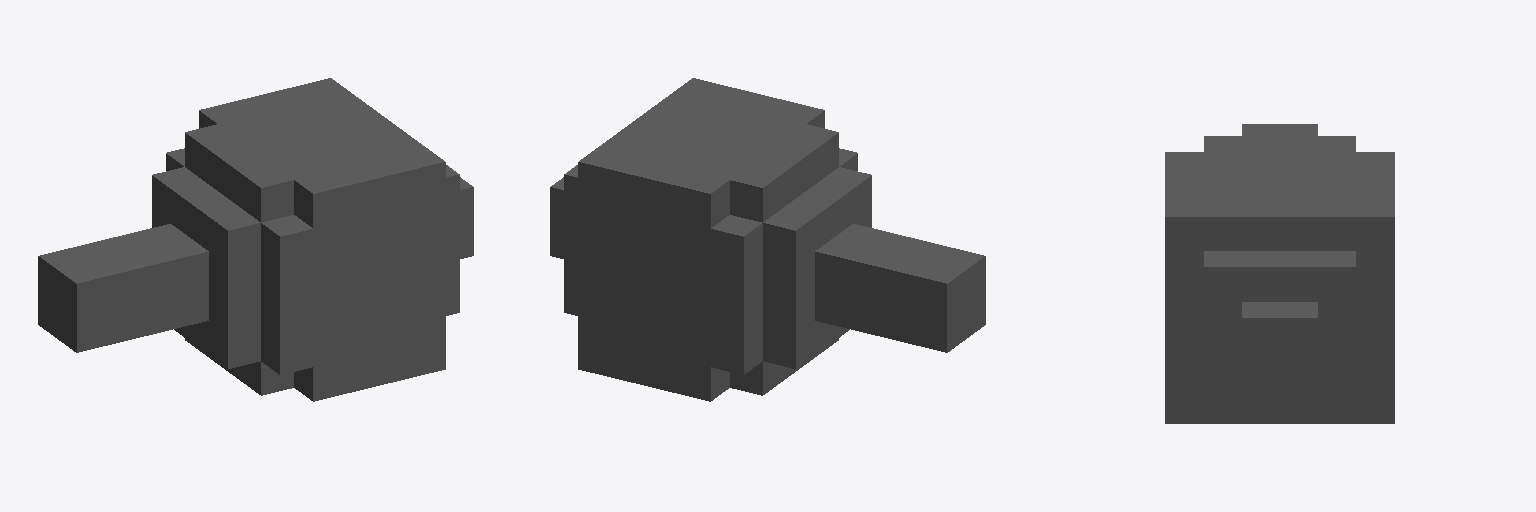
3 renders of one model, left to right at view 1: azimuth 30°, elevation 25°; view 2: azimuth 150°, elevation 25°; view 3: azimuth 270°, elevation 25°, orthographic.
Parts seen in each view (by area): view 1: Spell; view 2: Spell; view 3: Spell.
Boxes of the visible parts, <box> form: Spell: <box>38,78,473,401</box>; Spell: <box>550,78,985,401</box>; Spell: <box>1165,124,1394,423</box>.
Size of the model in its own units: 12 by 6 by 6.
1 materials, 1 textured.